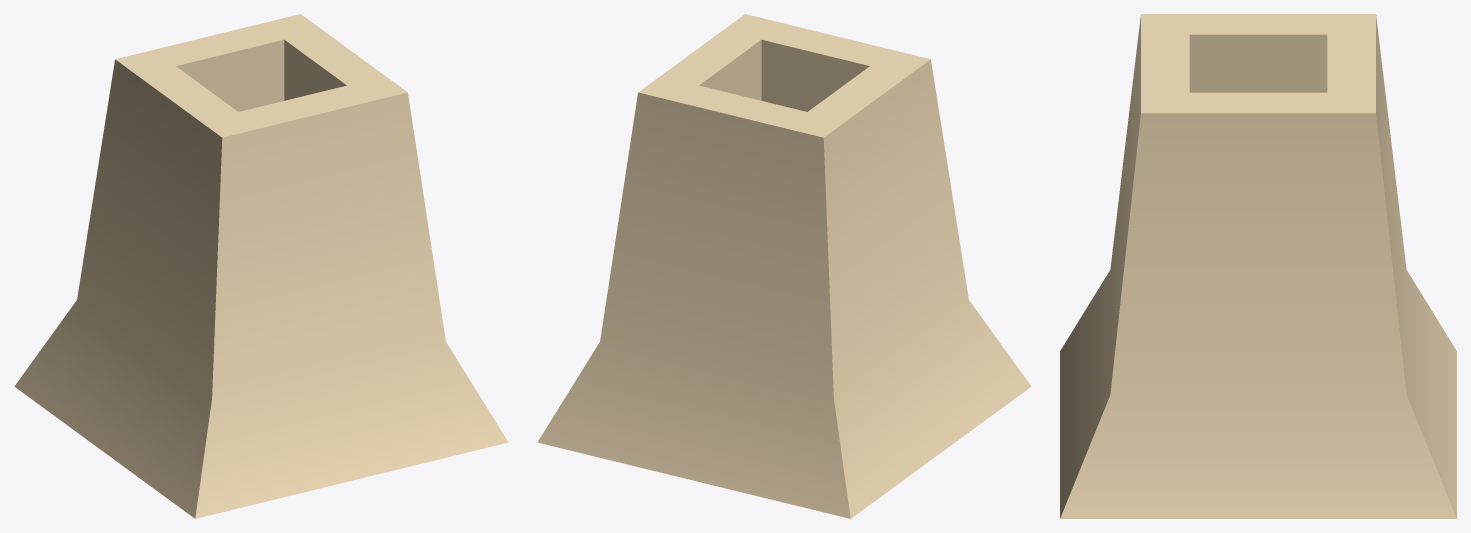
The model's file is naturePack_108.fbx.
3 renders of one model, left to right at view 1: azimuth 30°, elevation 25°; view 2: azimuth 150°, elevation 25°; view 3: azimuth 270°, elevation 25°, orthographic. The views are drawn at different scales.
Parts seen in each view (by area): view 1: naturePack_108; view 2: naturePack_108; view 3: naturePack_108.
Boxes of the visible parts, left/top/right/bottom form: naturePack_108: left=14, top=14, right=508, bottom=518; naturePack_108: left=537, top=14, right=1031, bottom=518; naturePack_108: left=1060, top=14, right=1456, bottom=518.
Bounding box in the file's own units: 80.37 × 83 × 80.37.
